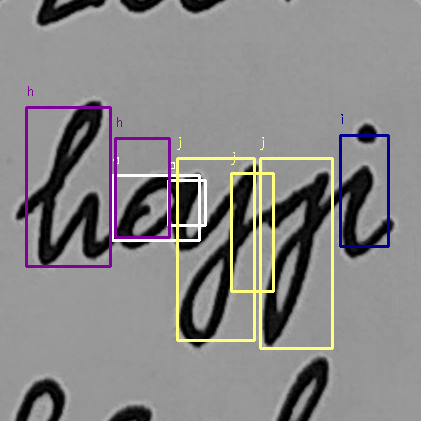a: (113, 168, 206, 256)
h: (33, 96, 107, 271)
i: (338, 120, 396, 263)
j: (174, 156, 263, 351), (256, 163, 336, 348)
